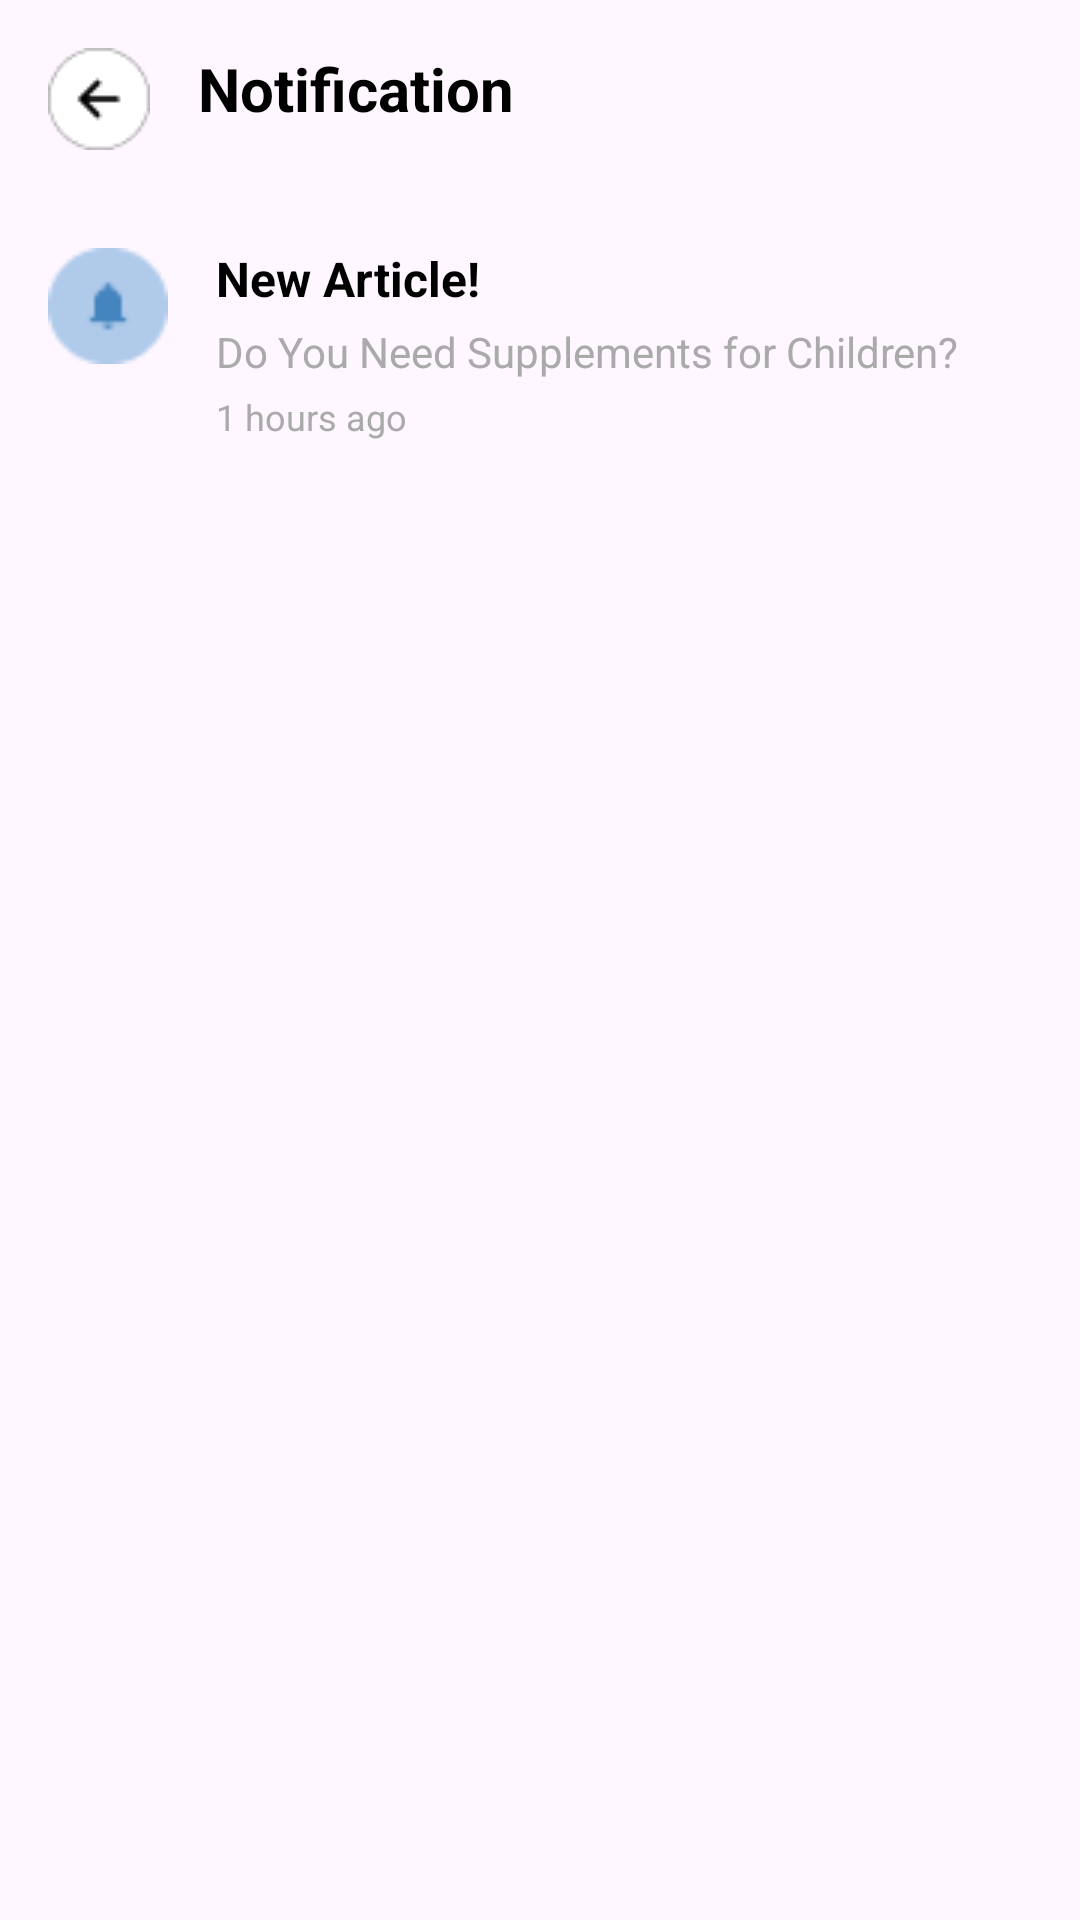

Point at icon controls on the screen. Image size 1080 x 1920, points as point (x, y).
Back Button: point (99, 99)
